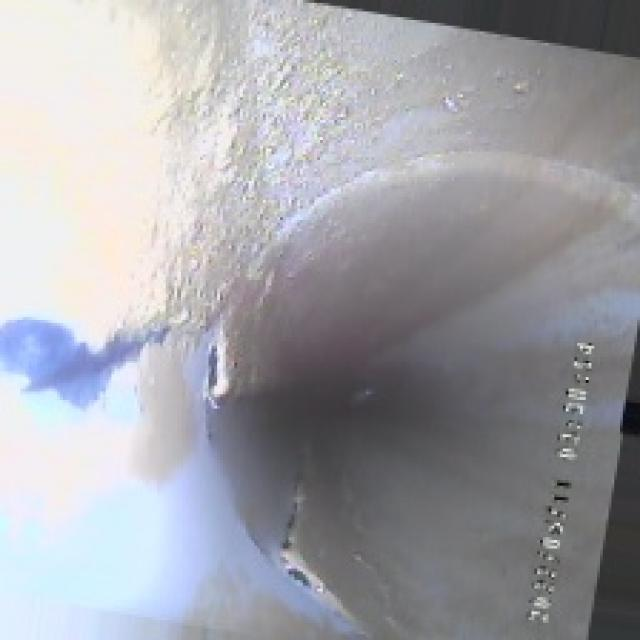pipe_surface_damage: (174, 292, 394, 614)
